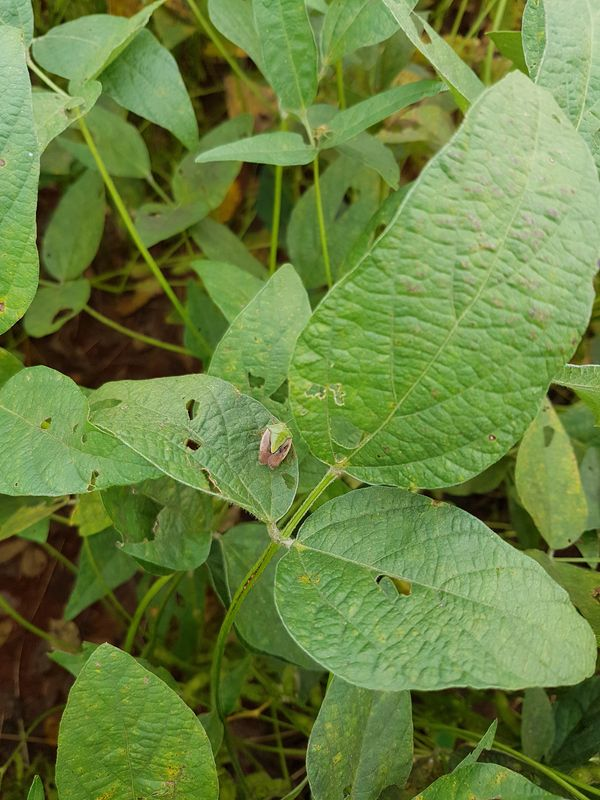Edessa_meditabunda: (246, 408, 308, 478)
